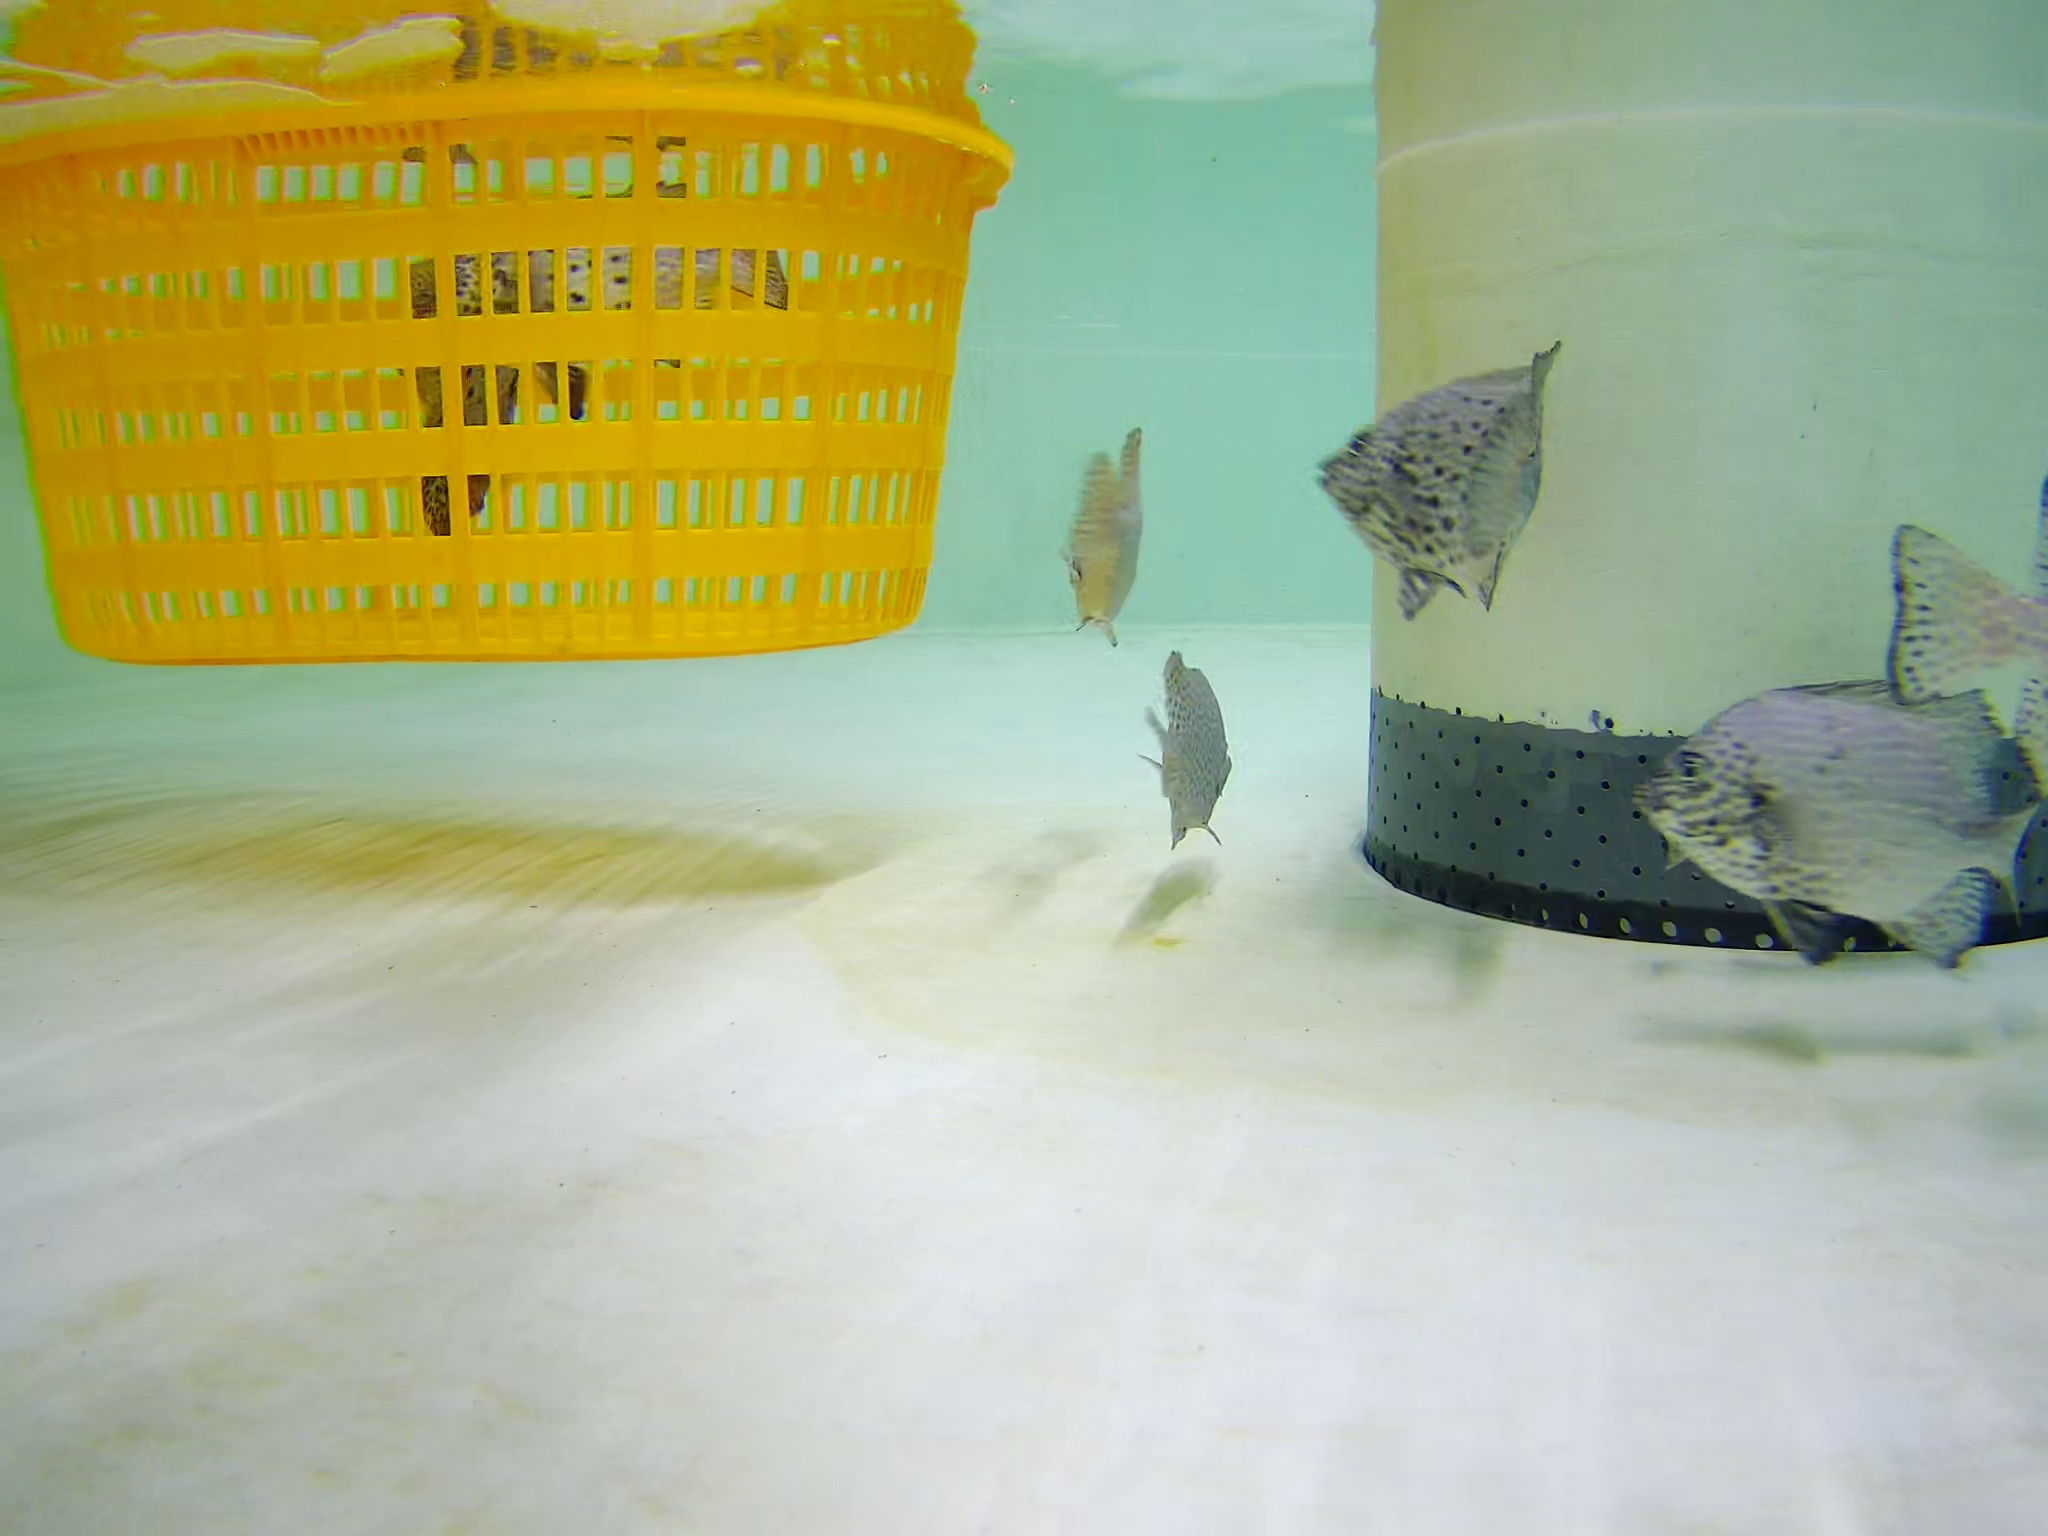fish: (1616, 679, 2037, 963), (506, 200, 813, 426), (402, 150, 579, 524), (1319, 352, 1566, 611), (1887, 510, 2048, 739), (1053, 421, 1151, 632), (1151, 645, 1237, 841)
